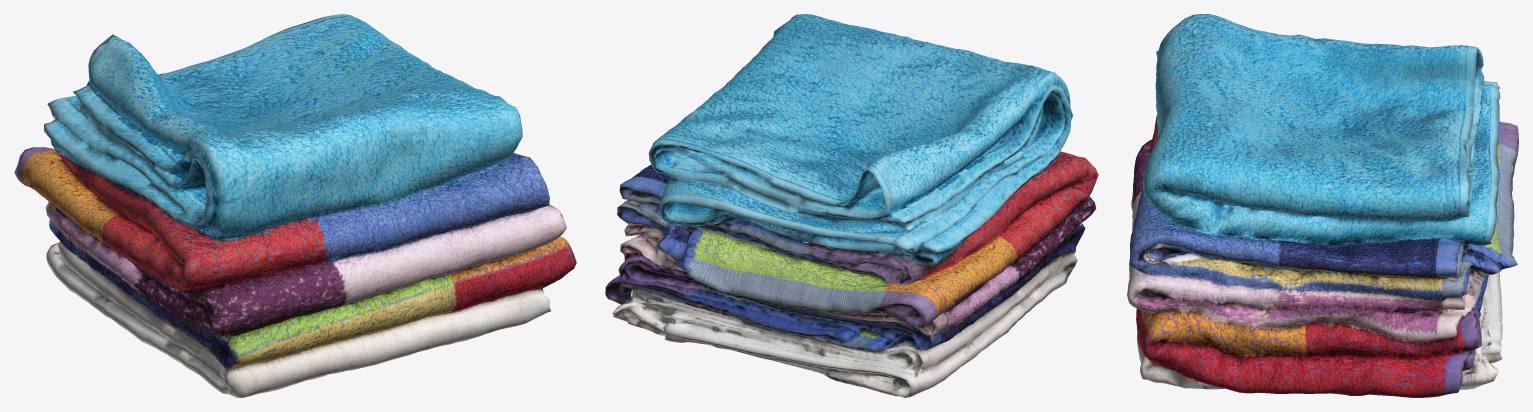
Rendered from stackOfTowel01.glb.
3 views of the same model, side by side, from view 1: azimuth 30°, elevation 25°; view 2: azimuth 150°, elevation 25°; view 3: azimuth 270°, elevation 25° (orthographic). The views are drawn at different scales.
Visible parts, largest first — view 1: towels_LOW; view 2: towels_LOW; view 3: towels_LOW.
Boxes of the visible parts, box(x1,y1,x2,y2) form: towels_LOW: box(14, 14, 576, 397); towels_LOW: box(605, 14, 1098, 397); towels_LOW: box(1127, 14, 1518, 397).
Size of the model in its own units: 0.2862 by 0.1717 by 0.2632.
Materials: 1 (1 with a texture image).
